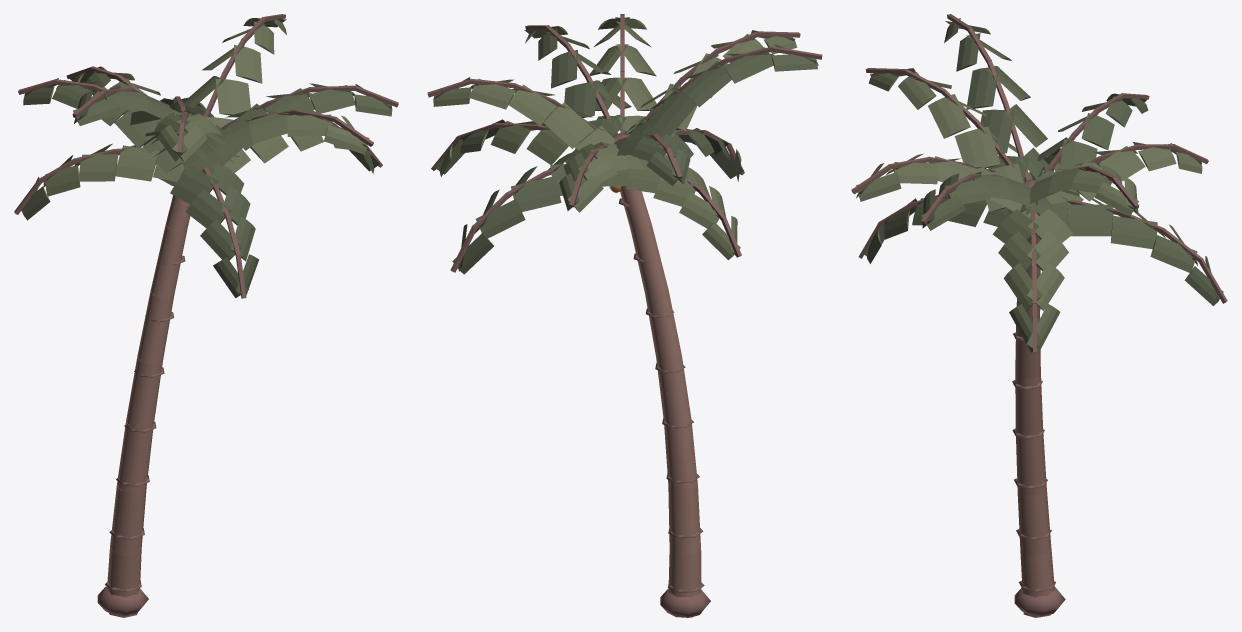
File: yard_palm.glb
3 renders of one model, left to right at view 1: azimuth 30°, elevation 25°; view 2: azimuth 150°, elevation 25°; view 3: azimuth 270°, elevation 25°, orthographic.
Visible parts, largest first — view 1: frond, frond2, trunk, trunkdark; view 2: frond, frond2, trunk, trunkdark; view 3: frond, frond2, trunkdark, trunk.
Part boxes in pixels (x1,y1,x2,y2): frond: [21, 18, 379, 220]; frond2: [23, 78, 392, 297]; trunk: [107, 195, 190, 617]; trunkdark: [14, 14, 398, 615]; frond: [433, 17, 796, 260]; frond2: [452, 26, 818, 274]; trunk: [620, 185, 701, 617]; trunkdark: [427, 14, 822, 617]; frond: [856, 68, 1202, 352]; frond2: [863, 18, 1223, 305]; trunkdark: [851, 14, 1227, 616]; trunk: [1015, 235, 1054, 617].
Size of the model in its own units: 8.44 by 12.84 by 7.84.
